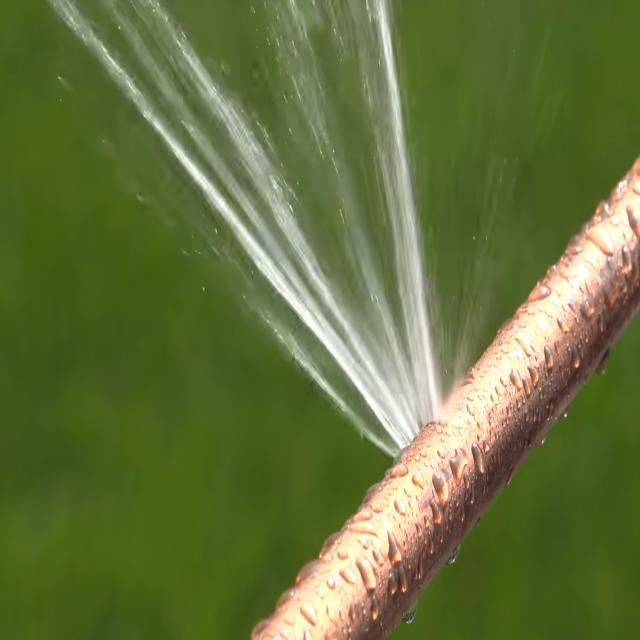leak: (41, 0, 449, 459)
